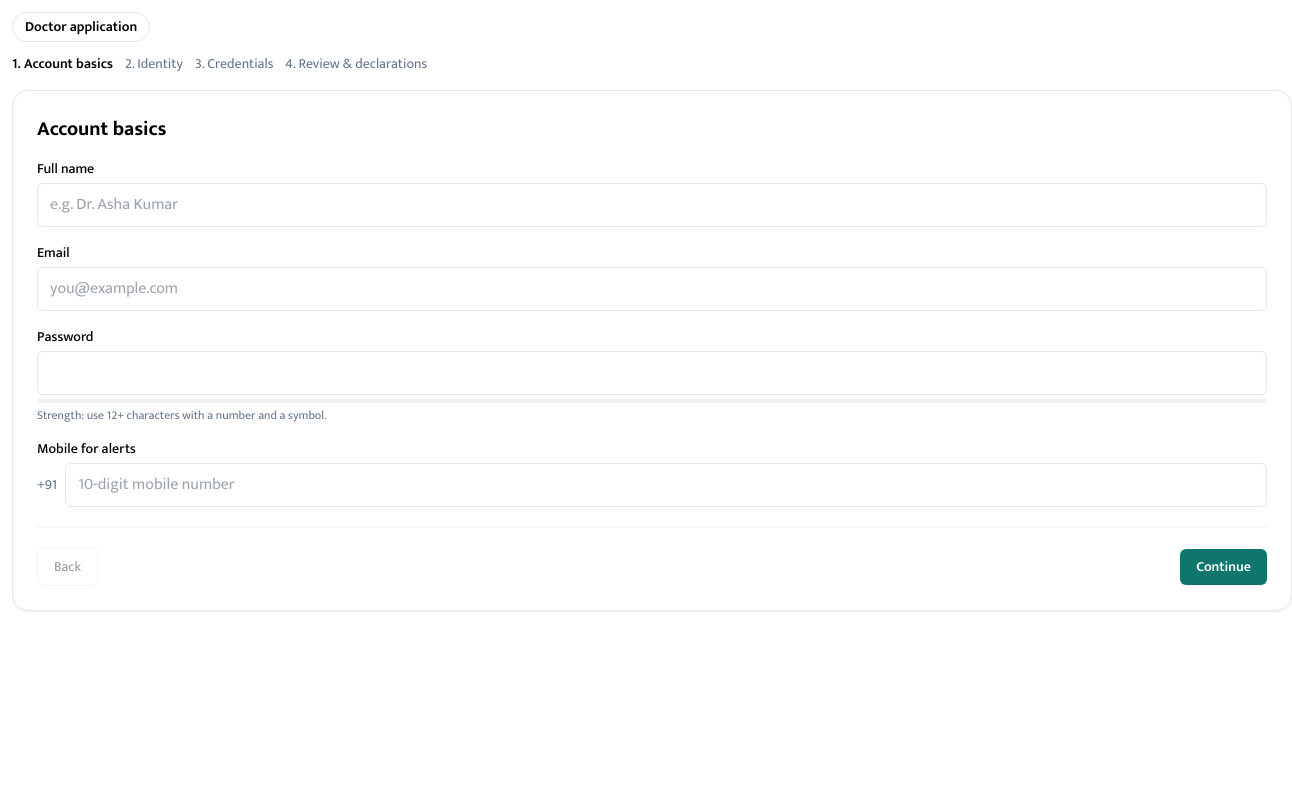
Test: four-step skeleton (blueprint §4.3) › goes Back without losing entered values
Type "Dr. Asha Kumar" into the field with test id "pr-fullname".
click(652, 205); type("Dr. Asha Kumar")  # box x1=37 y1=183 x2=1267 y2=227
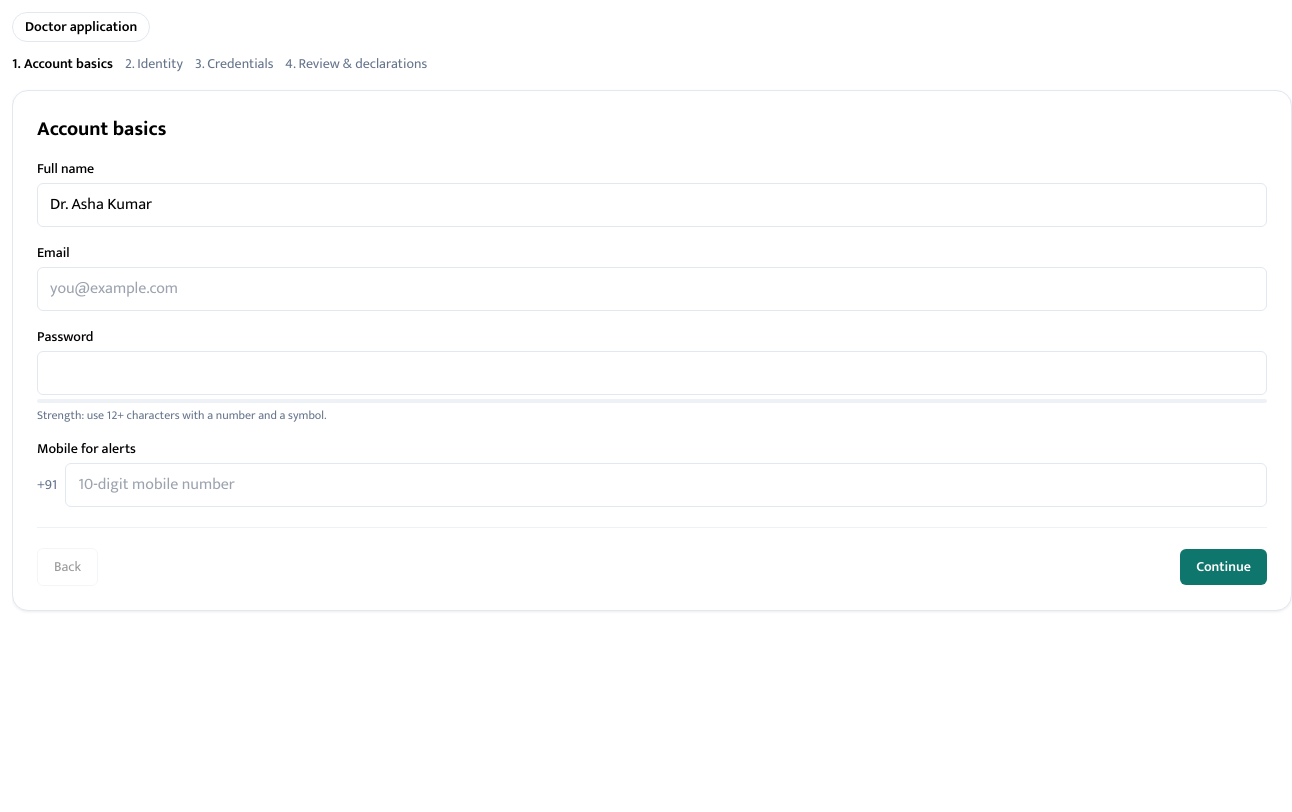
Type "asha@example.com" into the field with test id "pr-email".
click(652, 289); type("asha@example.com")  # box x1=37 y1=267 x2=1267 y2=311
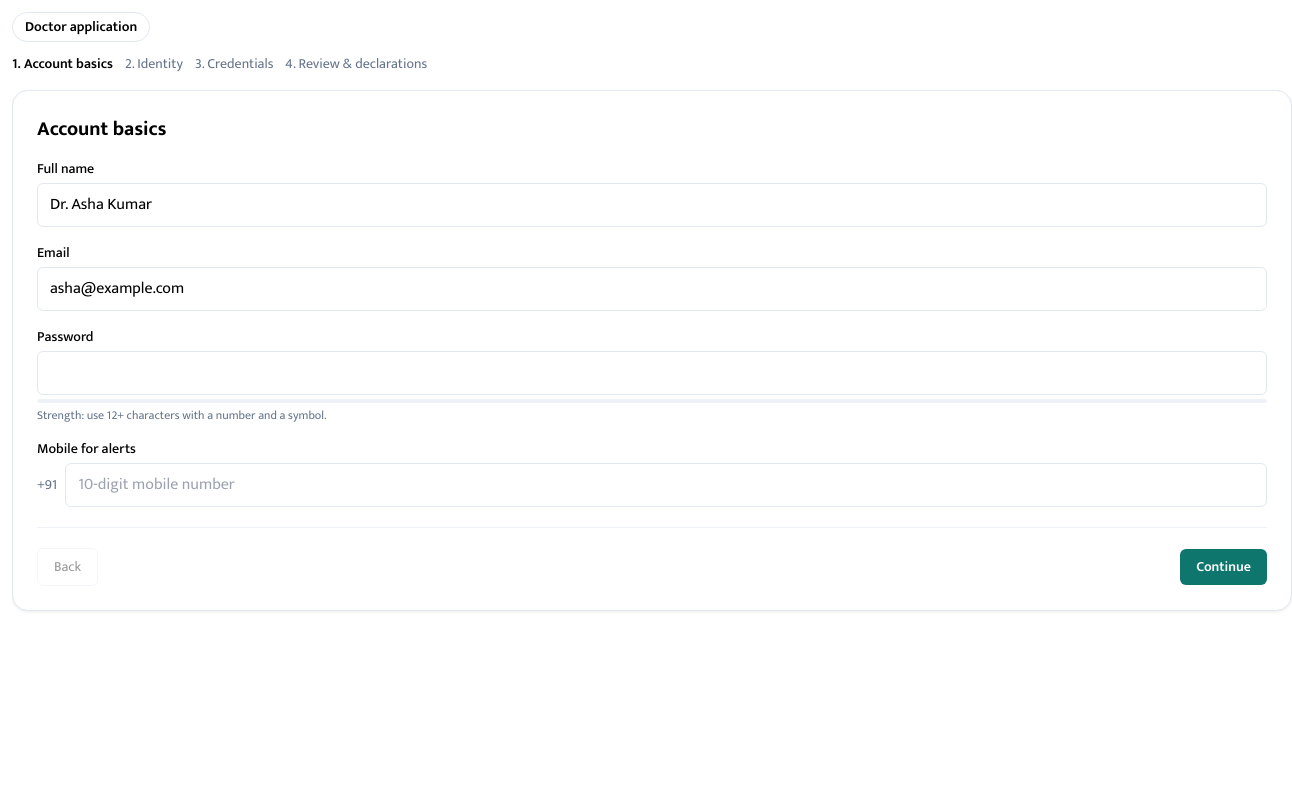
Type "correct-horse-battery1!" into the password field with test id "pr-password".
click(652, 373); type("correct-horse-battery1!")  # box x1=37 y1=351 x2=1267 y2=395
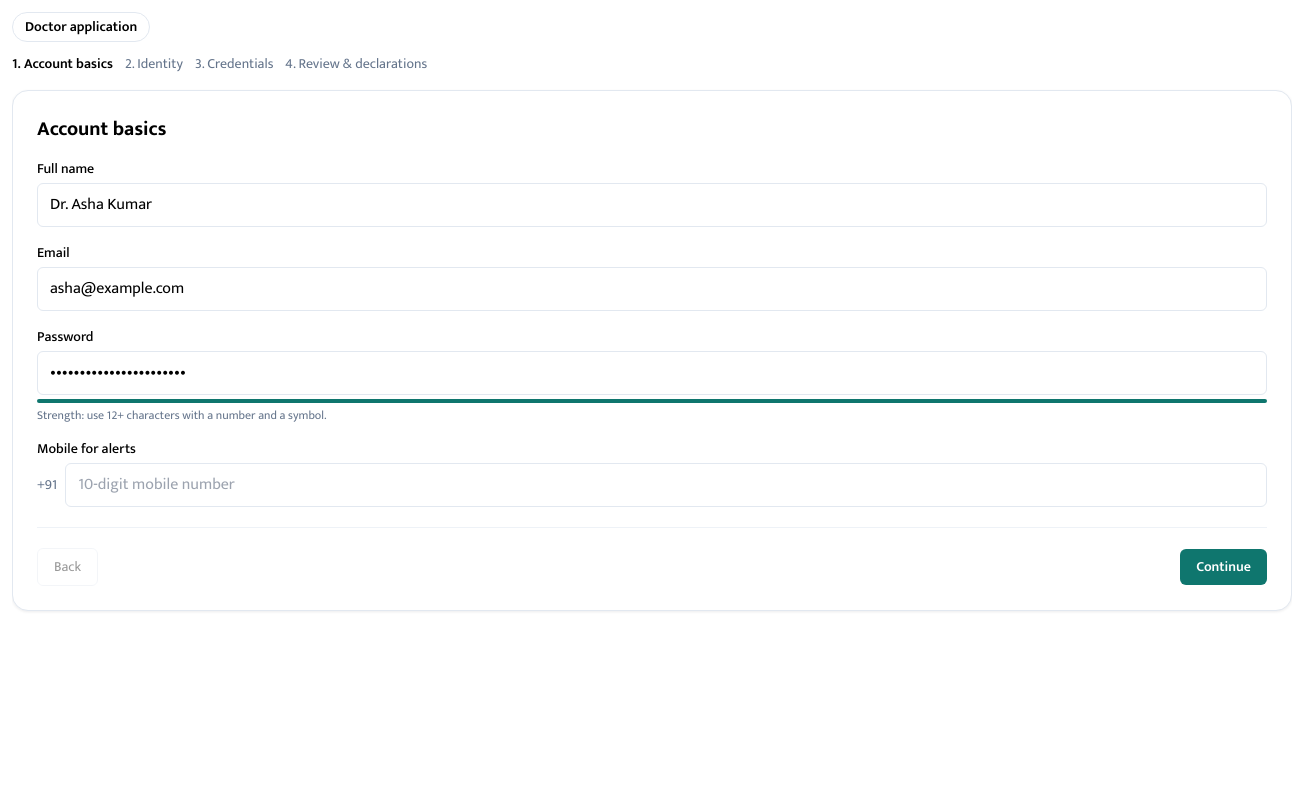
Type "9876543210" into the field with test id "pr-mobile".
click(666, 485); type("9876543210")  # box x1=65 y1=463 x2=1267 y2=507
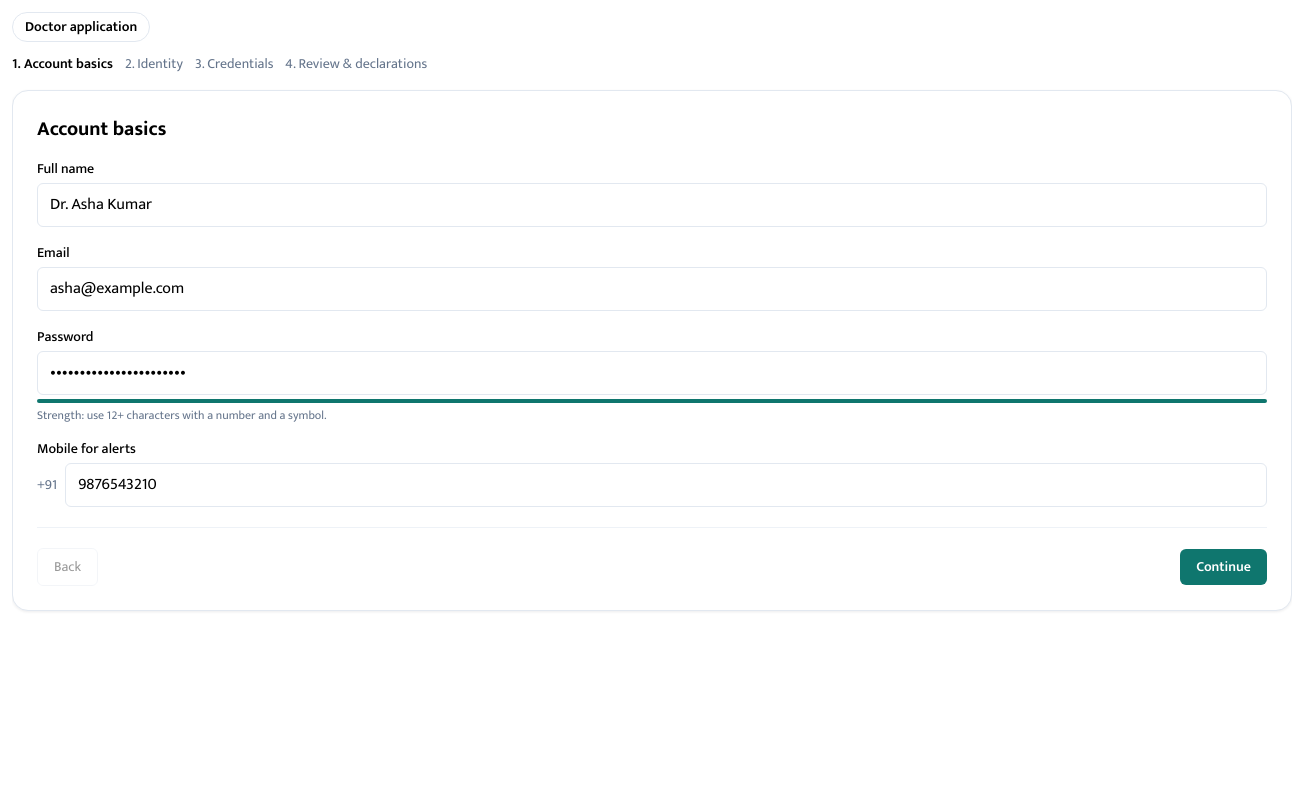
Click the button with test id "pr-next".
click(1224, 567)  # box x1=1180 y1=549 x2=1267 y2=585
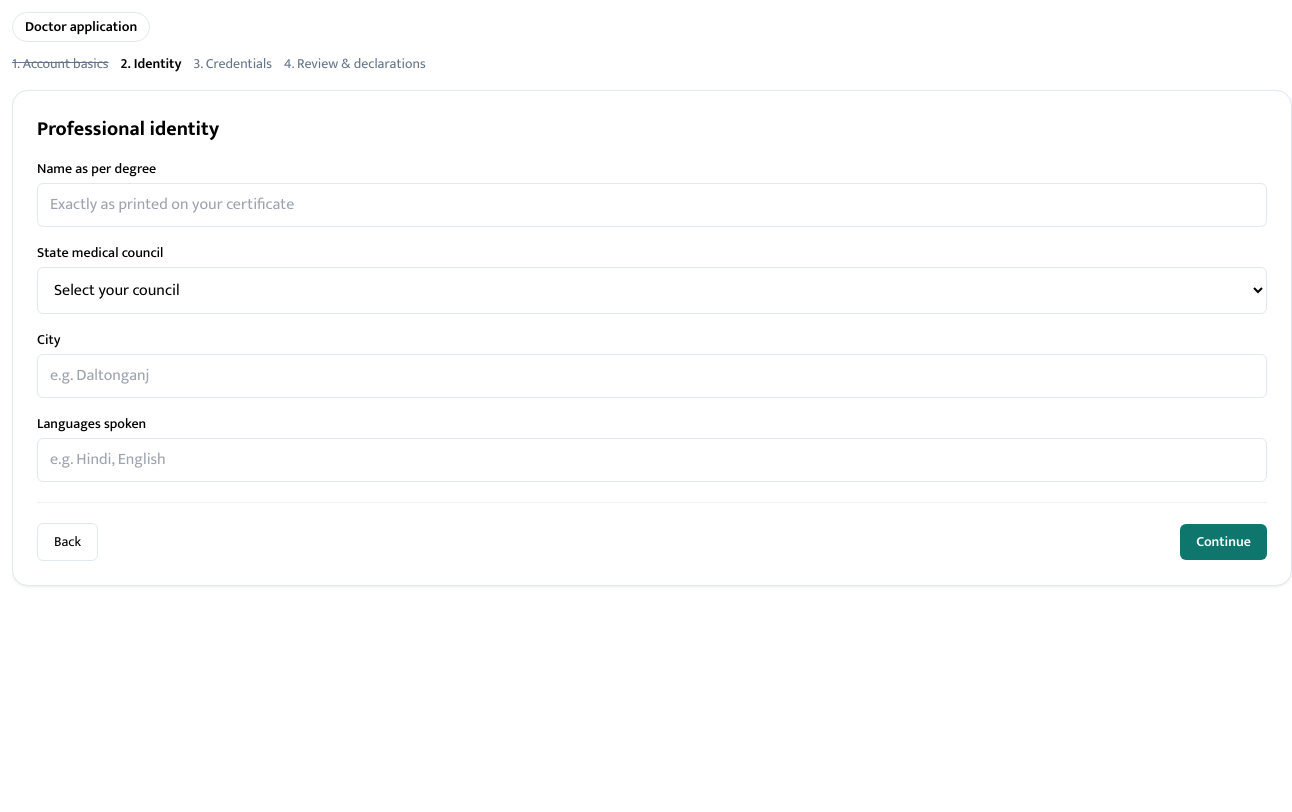
Click the button with test id "pr-back".
click(68, 542)  # box x1=37 y1=523 x2=98 y2=561
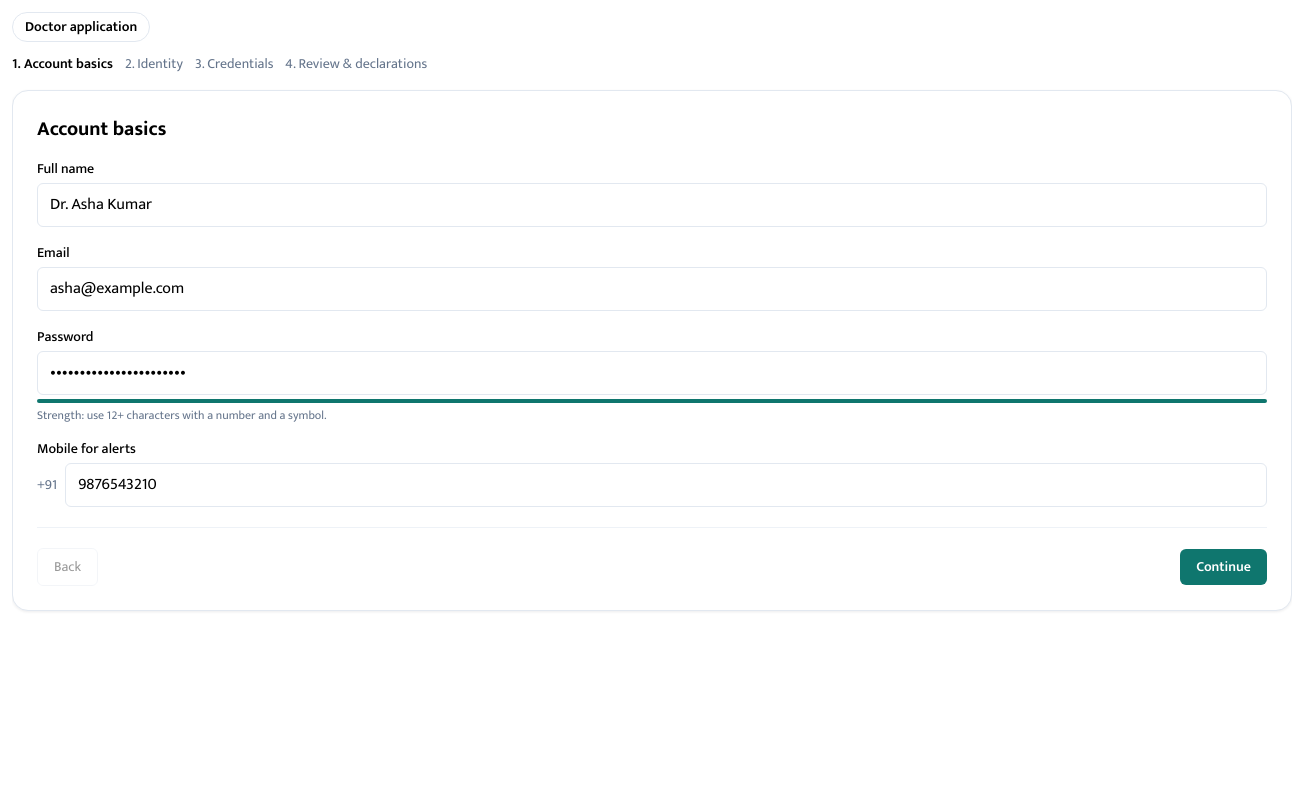
Now the element with test id "pr-step-1" is shown, box x1=37 y1=115 x2=1267 y2=507
Now the field with test id "pr-fullname" holds "Dr. Asha Kumar", box x1=37 y1=183 x2=1267 y2=227
